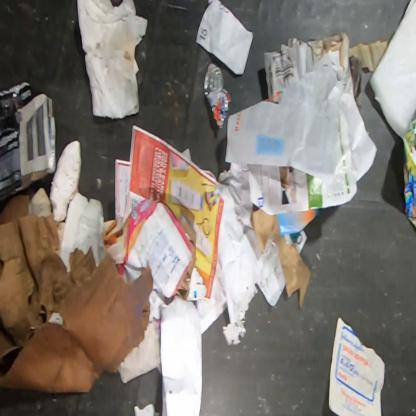cardboard: (0, 211, 97, 349), (0, 81, 57, 208)
metal: (204, 61, 231, 132)
